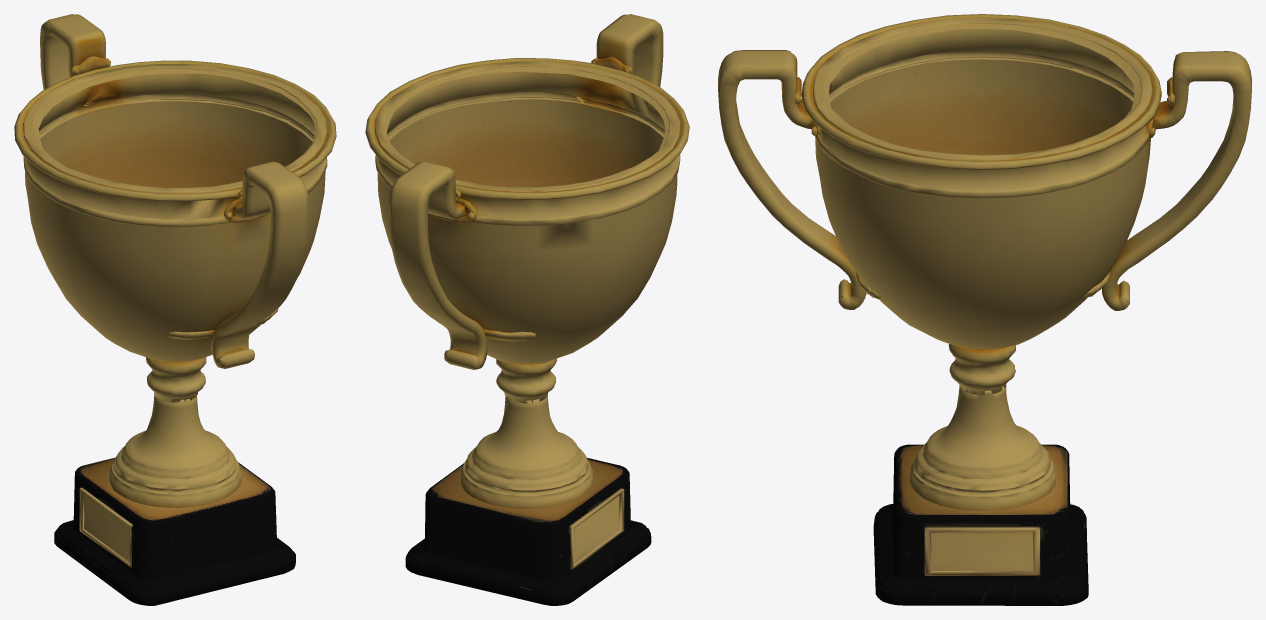
File: r33-trophy.glb
3 views of the same model, side by side, from view 1: azimuth 30°, elevation 25°; view 2: azimuth 150°, elevation 25°; view 3: azimuth 270°, elevation 25° (orthographic). The views are drawn at different scales.
Parts seen in each view (by area): view 1: tripo_node_1940f49d-d9e7-4d71-a415-15a31b0938c8; view 2: tripo_node_1940f49d-d9e7-4d71-a415-15a31b0938c8; view 3: tripo_node_1940f49d-d9e7-4d71-a415-15a31b0938c8.
Boxes of the visible parts, bbox=[...] form: tripo_node_1940f49d-d9e7-4d71-a415-15a31b0938c8: bbox=[14, 14, 336, 605]; tripo_node_1940f49d-d9e7-4d71-a415-15a31b0938c8: bbox=[365, 14, 689, 605]; tripo_node_1940f49d-d9e7-4d71-a415-15a31b0938c8: bbox=[718, 14, 1251, 605].
Size of the model in its own units: 0.6426 by 0.998 by 0.959.
1 material, 1 textured.
